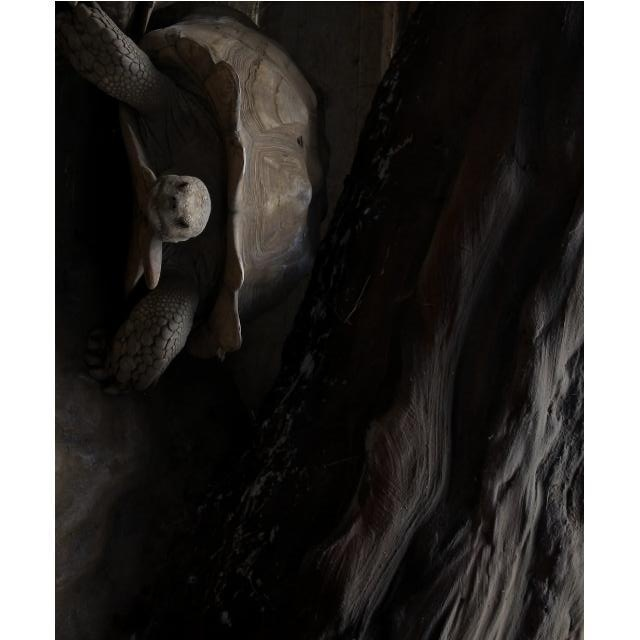turtle: (58, 3, 330, 391)
